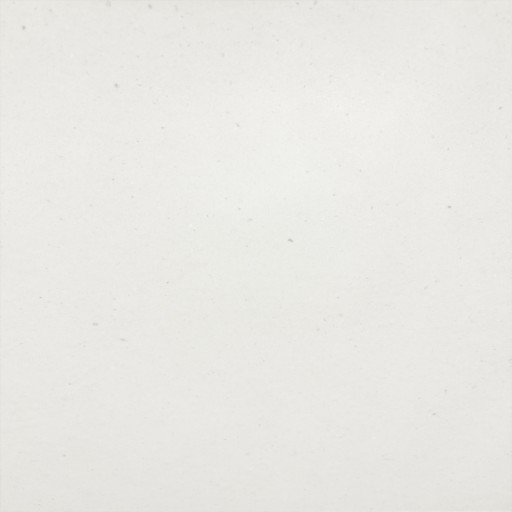lego: (241, 206, 273, 306)
